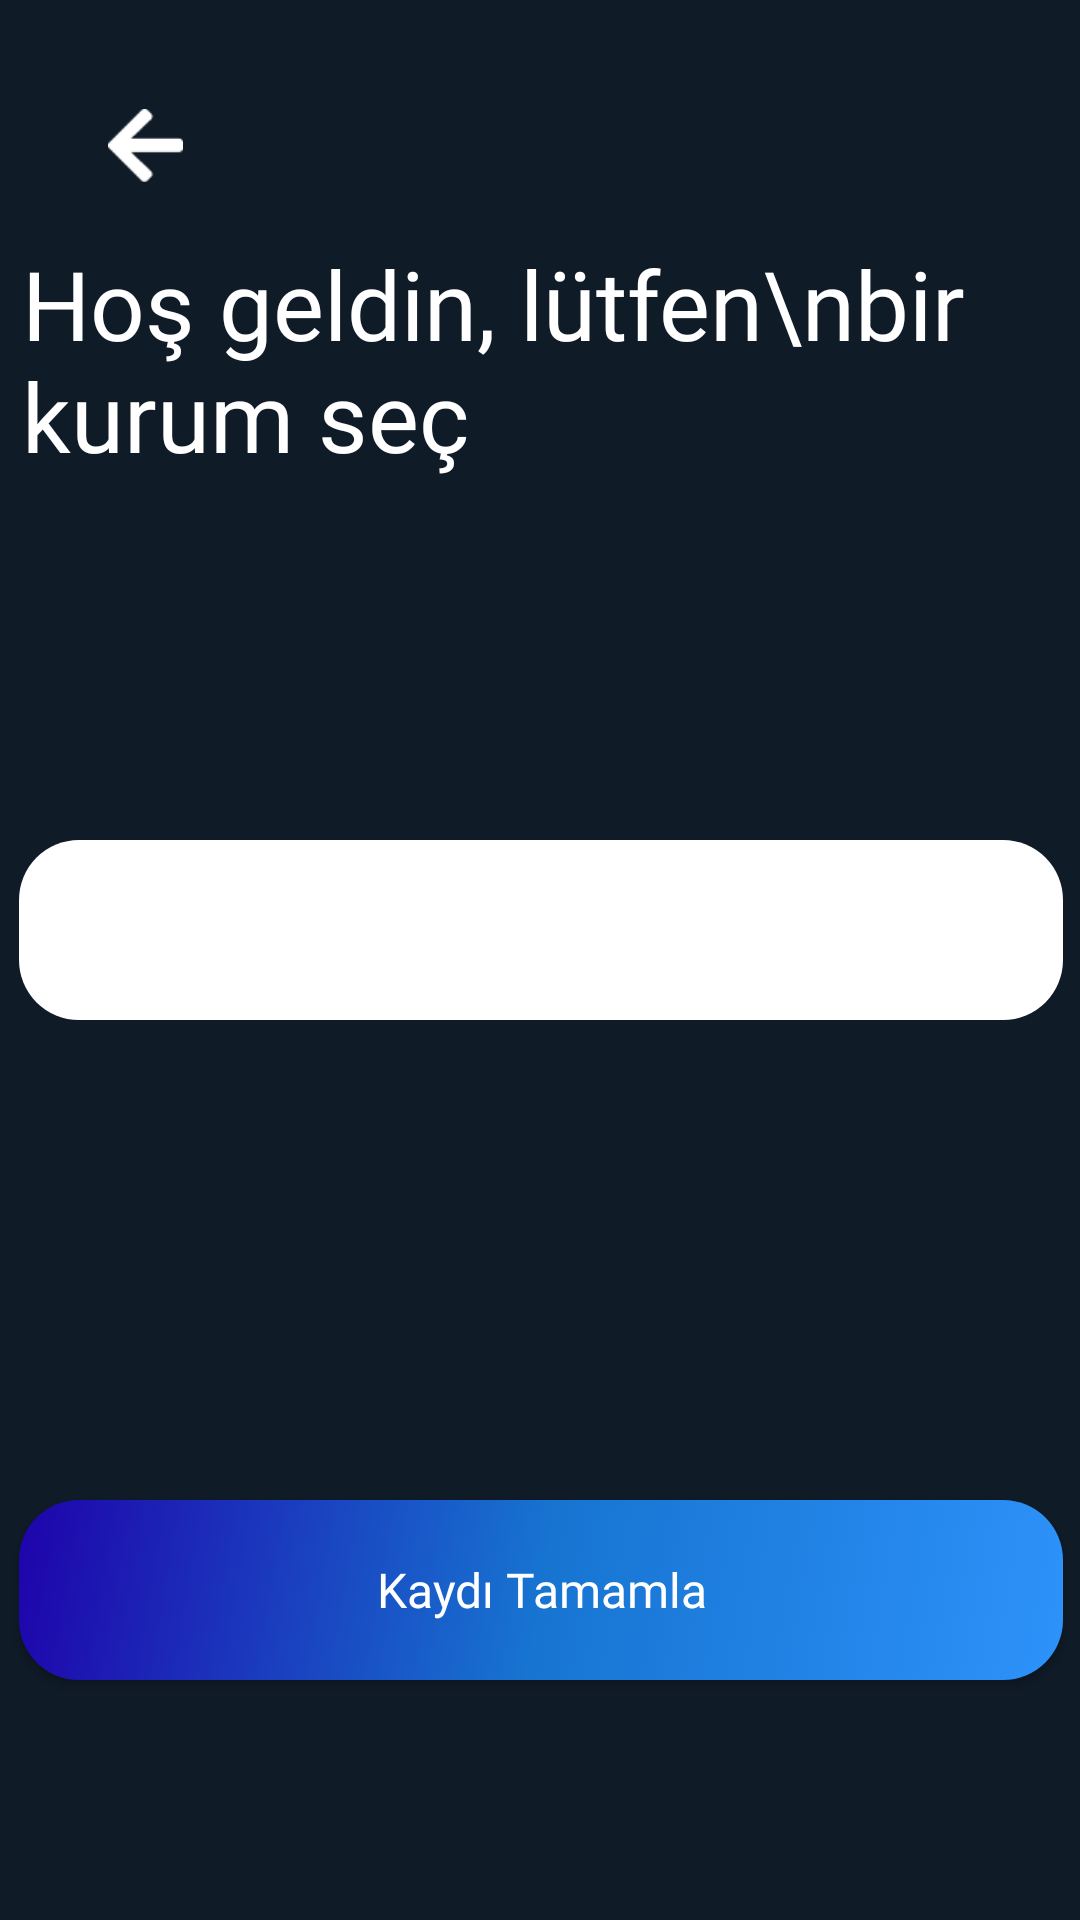

Where to tap for icons on this 1080 × 1920 app screen, as (x,y):
back: (145,145)
